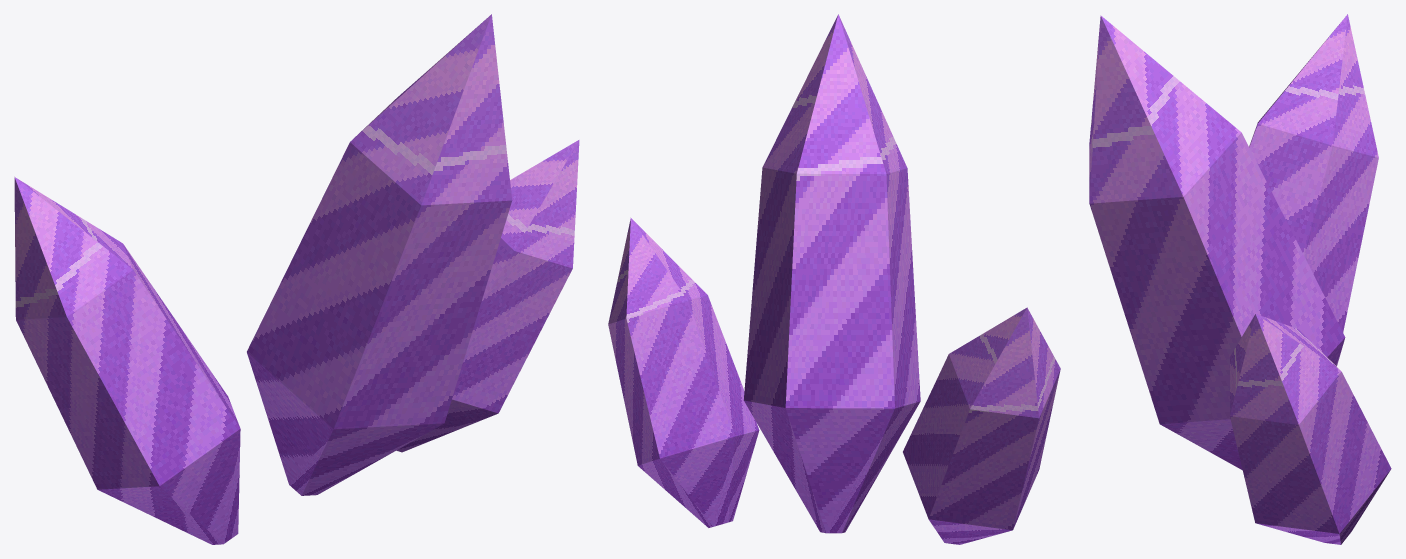
Rendered from estilhaco_de_ametista.glb.
The picture shows the model from 3 angles, left to right: view 1: azimuth 30°, elevation 25°; view 2: azimuth 150°, elevation 25°; view 3: azimuth 270°, elevation 25°; orthographic projection. The views are drawn at different scales.
Visible parts, largest first — view 1: estilhaco_de_ametista; view 2: estilhaco_de_ametista; view 3: estilhaco_de_ametista.
Boxes of the visible parts, x1=… form: estilhaco_de_ametista: x1=14, y1=14, x2=579, y2=544; estilhaco_de_ametista: x1=608, y1=14, x2=1060, y2=544; estilhaco_de_ametista: x1=1089, y1=14, x2=1391, y2=544.
Size of the model in its own units: 0.7334 by 0.7009 by 0.3718.
Materials: 1 (1 with a texture image).
